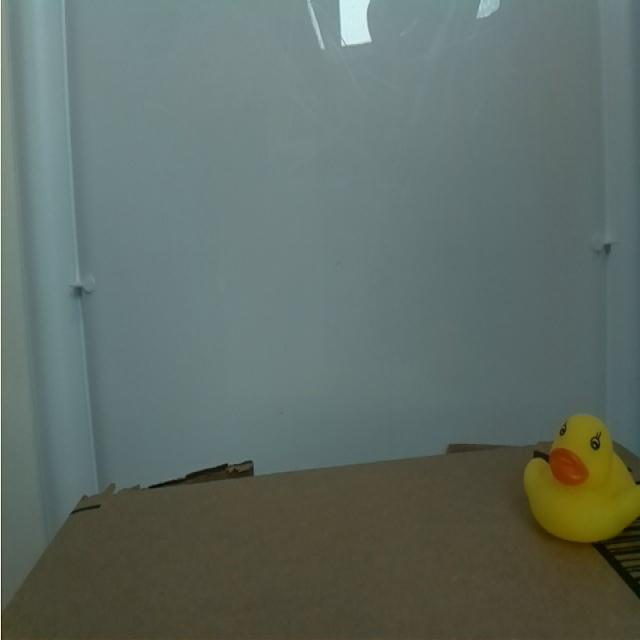duck_regular: (508, 388, 640, 588)
